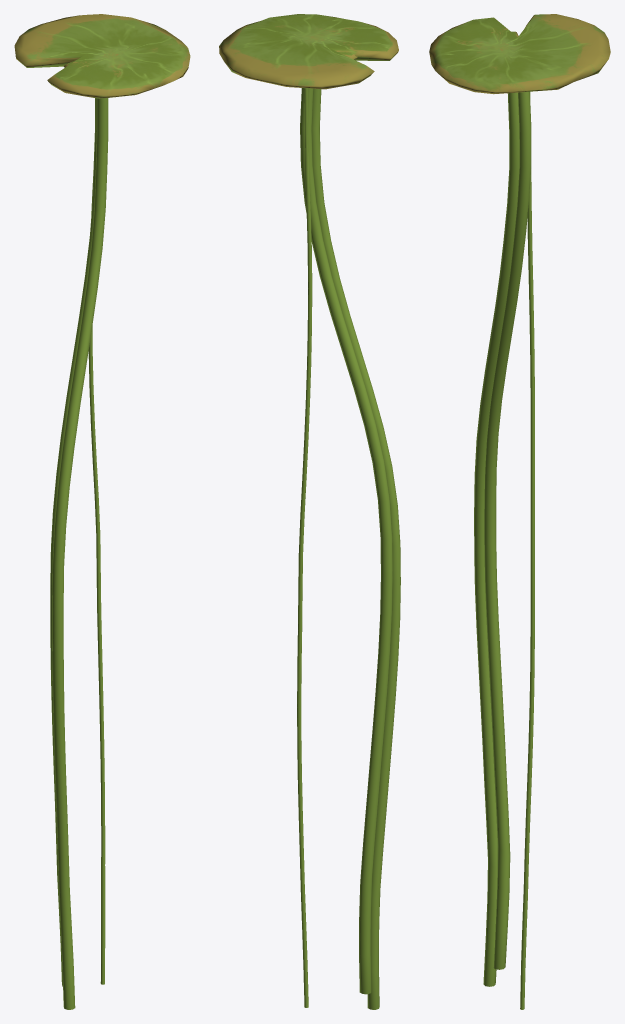
The model's file is Underwater.fbx.
3 views of the same model, side by side, from view 1: azimuth 30°, elevation 25°; view 2: azimuth 150°, elevation 25°; view 3: azimuth 270°, elevation 25° (orthographic). The views are drawn at different scales.
Parts seen in each view (by area): view 1: waterPlants05, waterPlants02; view 2: waterPlants05, waterPlants02; view 3: waterPlants05, waterPlants02.
Boxes of the visible parts, box(x1,y1,x2,y2) form: waterPlants05: box(14, 14, 190, 1009); waterPlants02: box(50, 59, 96, 986); waterPlants05: box(219, 14, 400, 1009); waterPlants02: box(300, 52, 392, 994); waterPlants05: box(429, 14, 610, 1009); waterPlants02: box(484, 31, 531, 969).
Bounding box in the file's own units: 235 × 1450 × 247.
